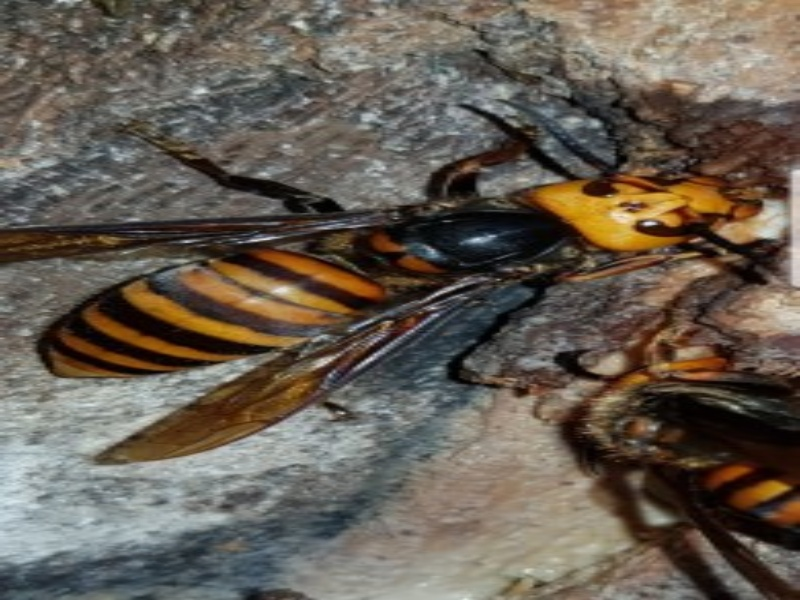asian_giant_hornet: (37, 171, 771, 381), (562, 356, 800, 532)
